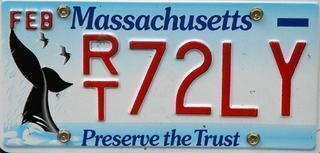placa de veiculo: (3, 1, 318, 150)
